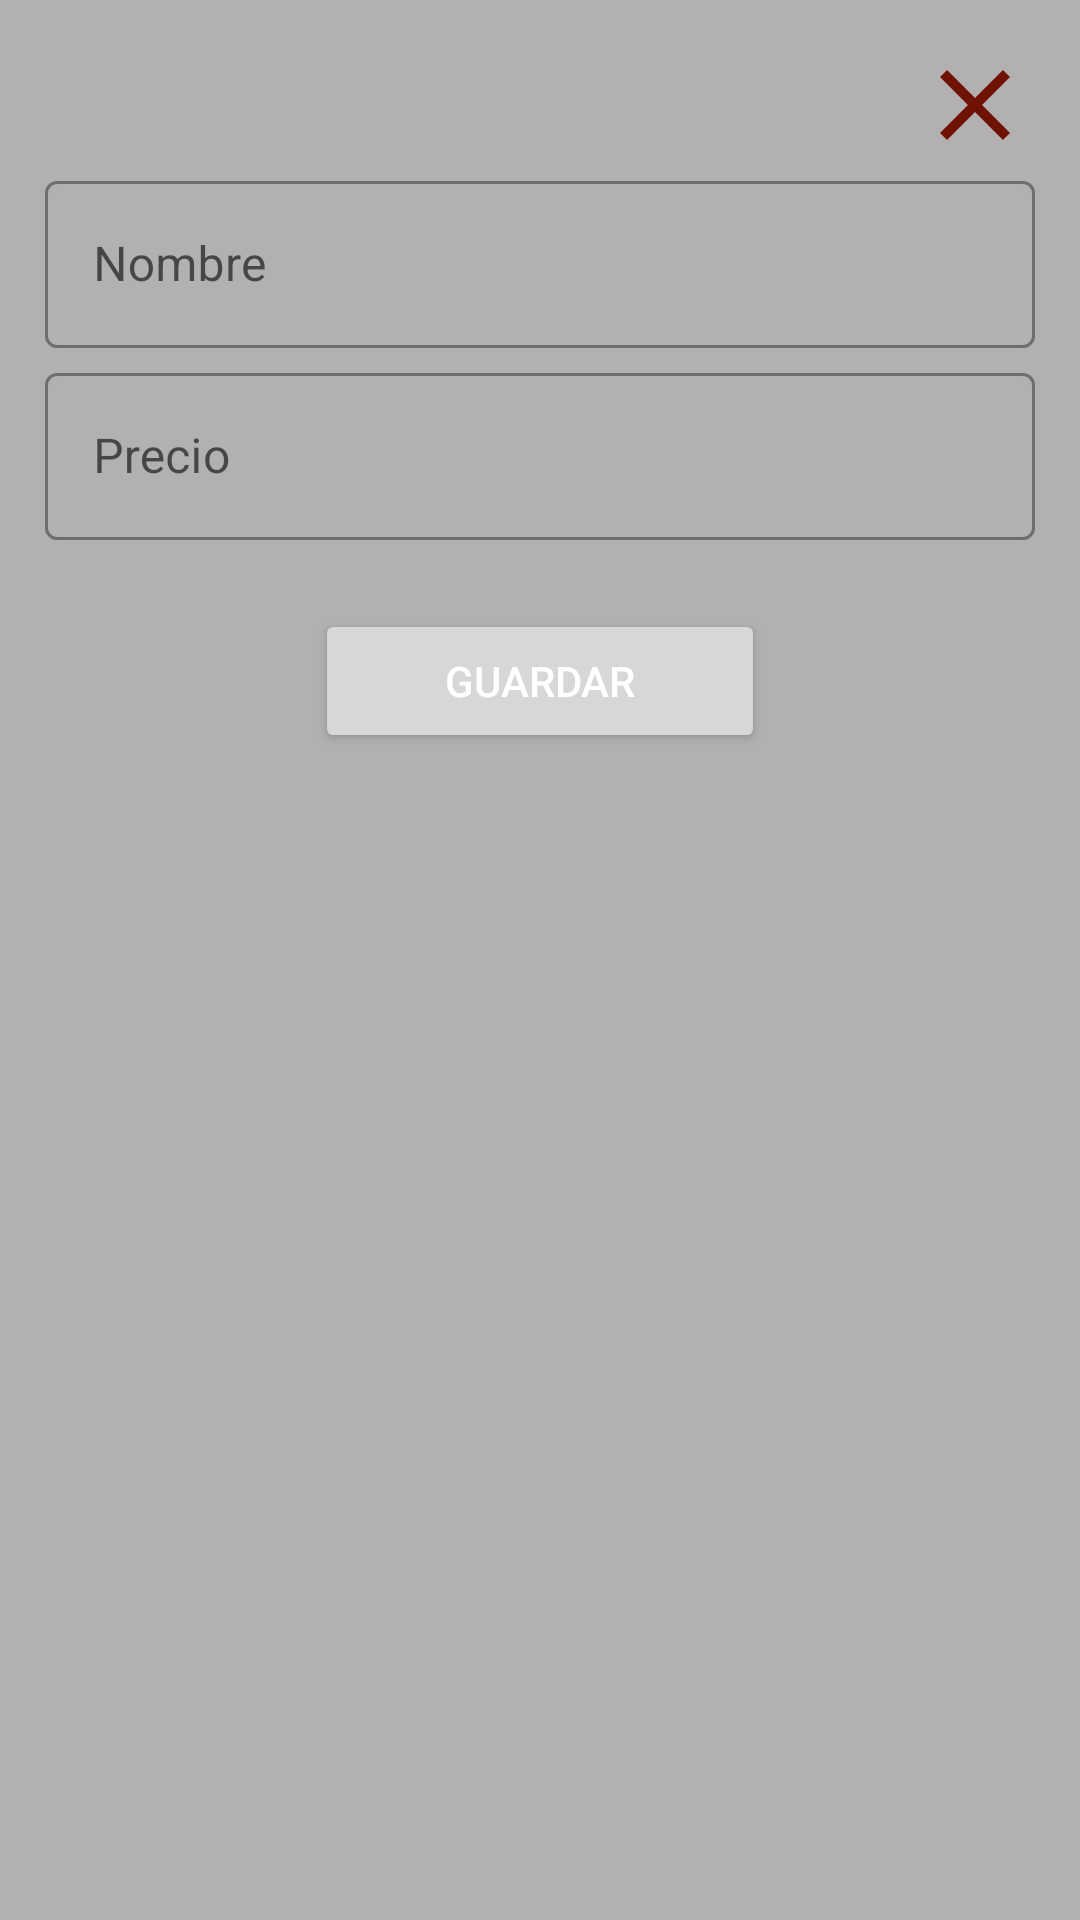

Icons on this 1080x1920 Android screen, each with the point to tap as point (x, y):
close: point (975, 105)
